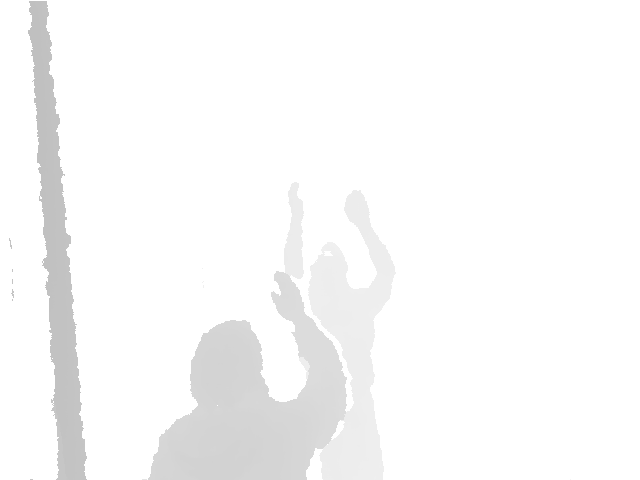hand: (269, 269, 308, 326), (340, 186, 372, 226), (286, 178, 307, 221)
head: (186, 317, 268, 410), (310, 241, 346, 294)
person: (147, 270, 353, 480), (282, 172, 395, 480)
